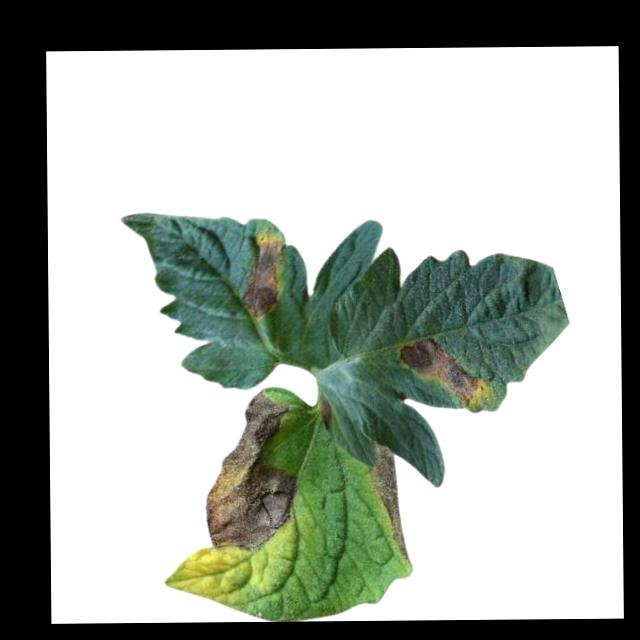Early_blight: (204, 391, 301, 550), (400, 335, 491, 404), (371, 441, 408, 561), (241, 235, 289, 317), (317, 395, 333, 429)
